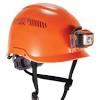helmet: (5, 4, 92, 67)
